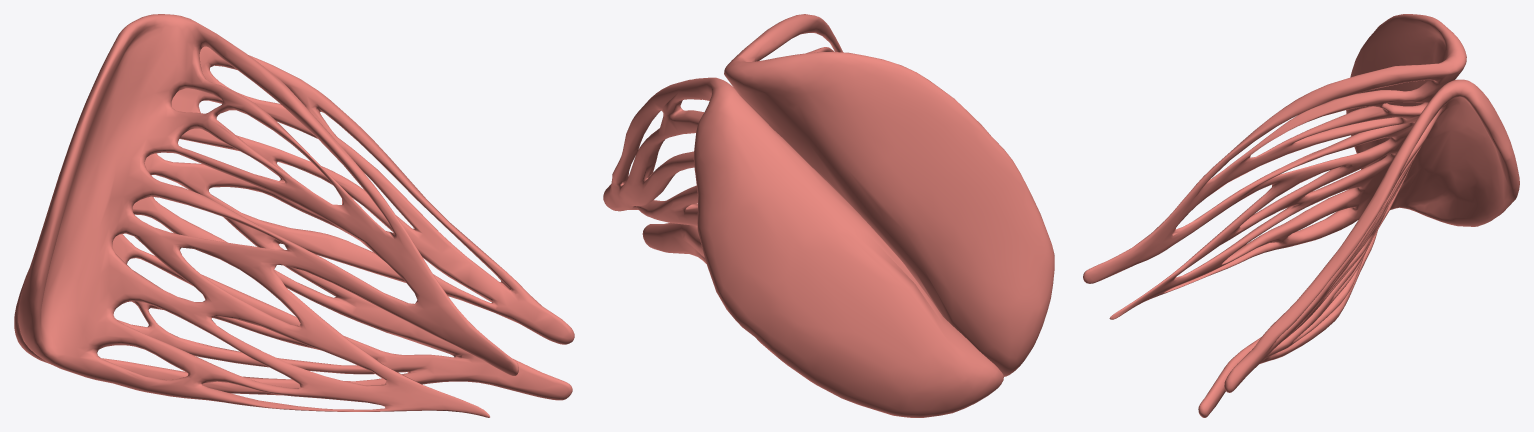
Rendered from bicuspid.gltf.
3 renders of one model, left to right at view 1: azimuth 30°, elevation 25°; view 2: azimuth 150°, elevation 25°; view 3: azimuth 270°, elevation 25°, orthographic. The views are drawn at different scales.
Visible parts, largest first — view 1: Posterior leaflet of left atrioventricular valve.017, Posterior leaflet of left atrioventricular valve.018; view 2: Posterior leaflet of left atrioventricular valve.018, Posterior leaflet of left atrioventricular valve.017; view 3: Posterior leaflet of left atrioventricular valve.017, Posterior leaflet of left atrioventricular valve.018.
Boxes of the visible parts, left/top/right/bottom form: Posterior leaflet of left atrioventricular valve.017: left=18, top=14, right=518, bottom=417; Posterior leaflet of left atrioventricular valve.018: left=14, top=46, right=574, bottom=400; Posterior leaflet of left atrioventricular valve.018: left=603, top=77, right=1003, bottom=417; Posterior leaflet of left atrioventricular valve.017: left=724, top=14, right=1054, bottom=376; Posterior leaflet of left atrioventricular valve.017: left=1083, top=14, right=1466, bottom=319; Posterior leaflet of left atrioventricular valve.018: left=1198, top=79, right=1519, bottom=417.
Size of the model in its own units: 1.64 by 1.15 by 1.62.
